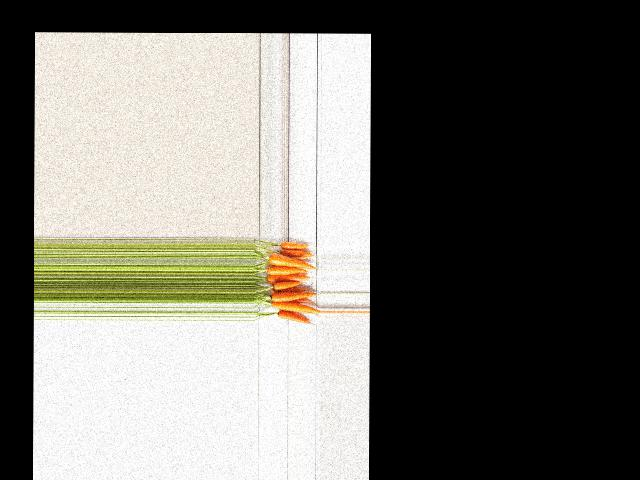carrot: (278, 239, 312, 252)
